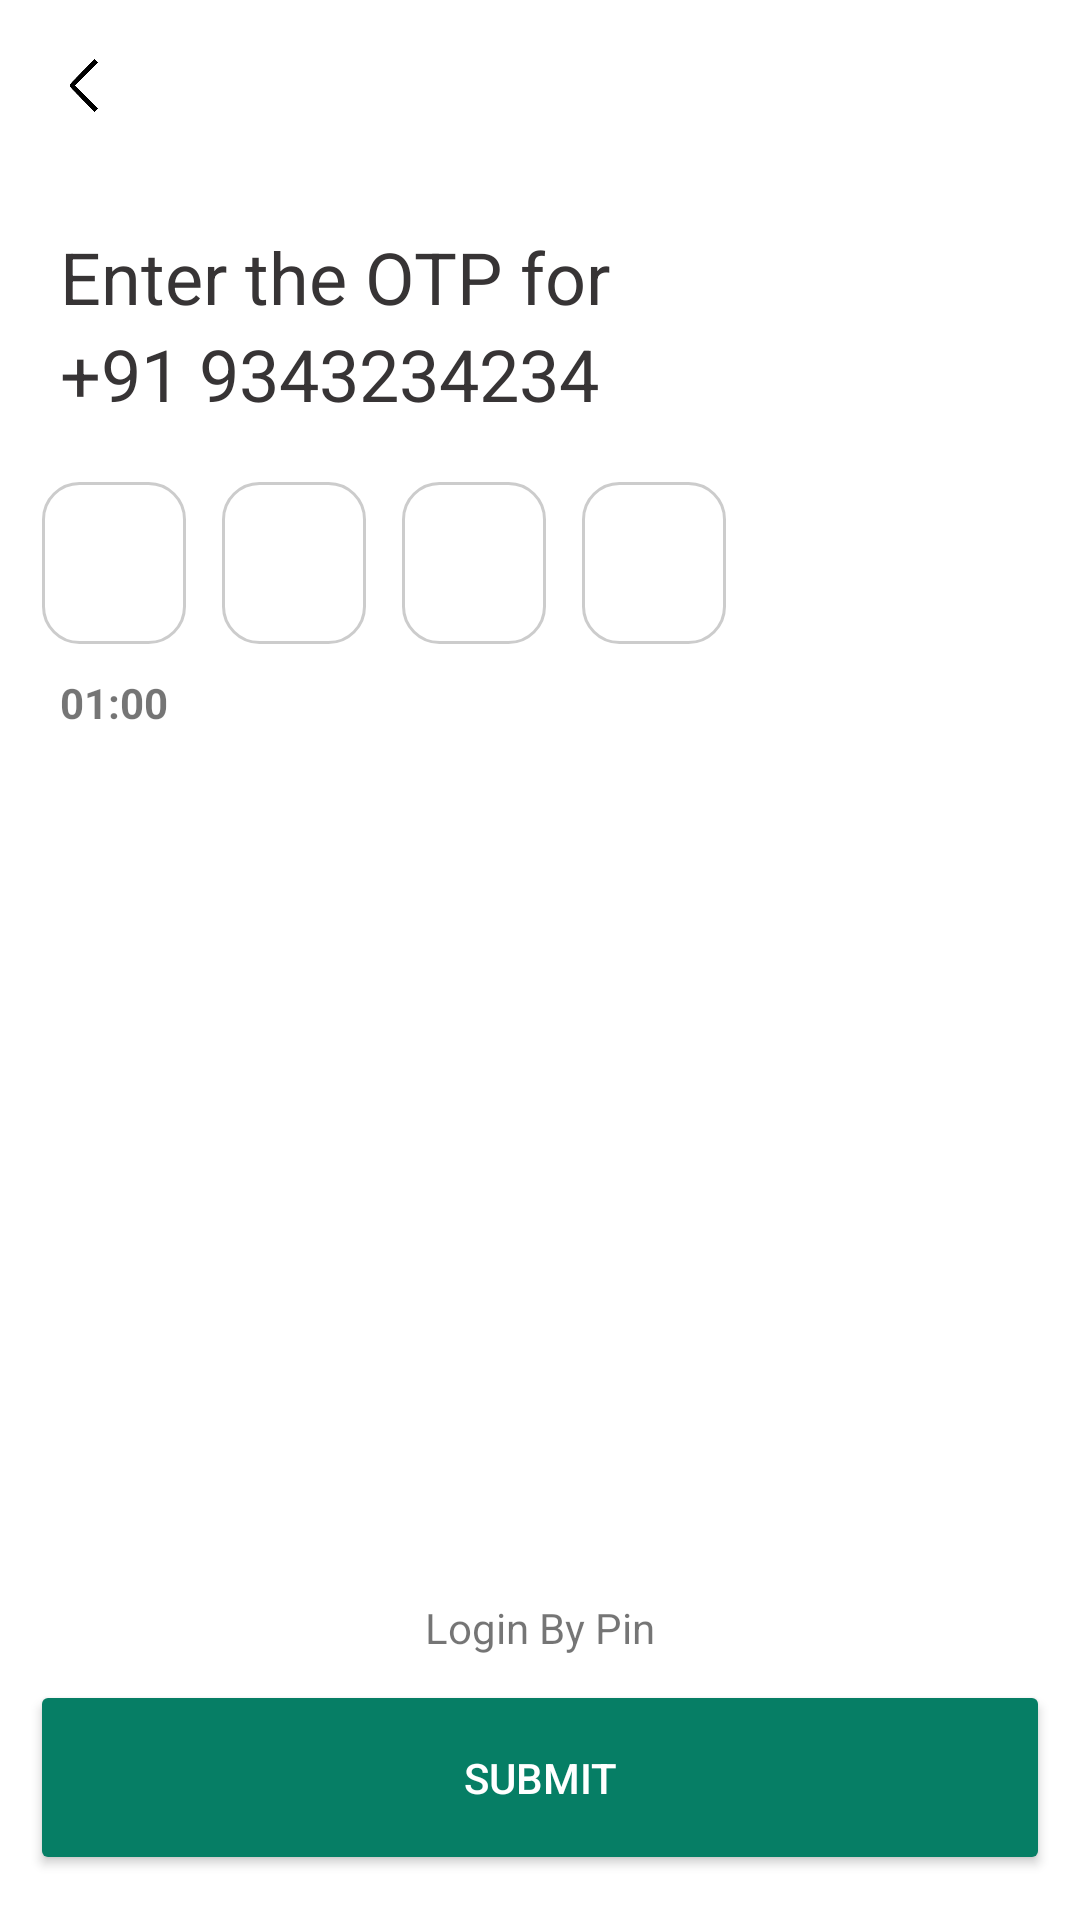

Icon bounding boxes for this 1080px x 1920px phone screenshot, format (x1, y1, x2, y2):
Back: (70, 59, 98, 112)
